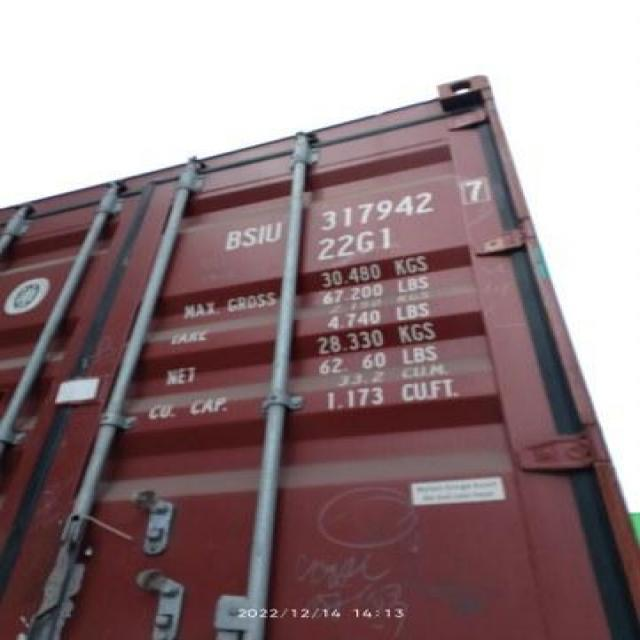container_number_h: (177, 151, 509, 266)
